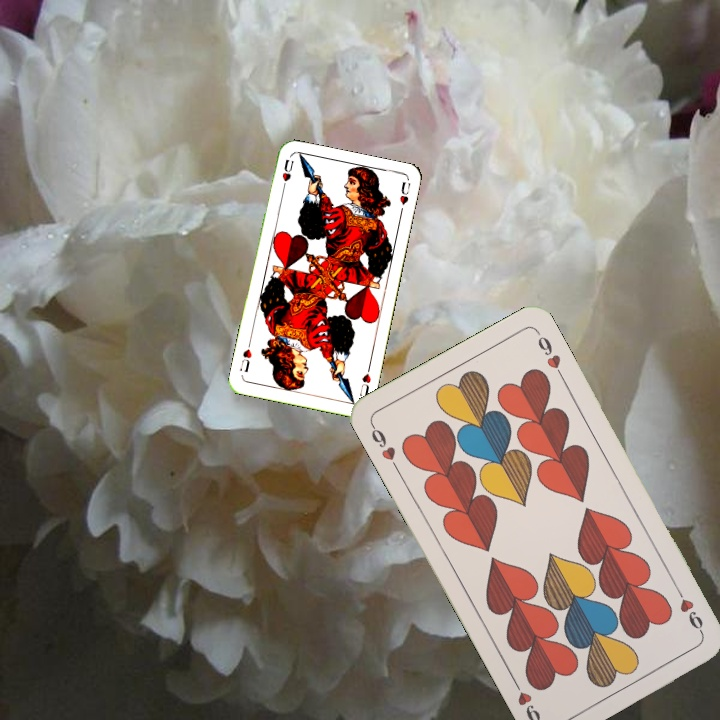H9: (367, 419, 402, 474), (671, 582, 706, 637)
HU: (278, 155, 296, 194), (356, 363, 374, 400)
